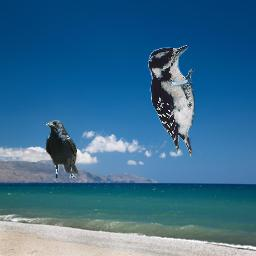Crow: (46, 120, 79, 178)
Woodpecker: (148, 45, 197, 158)
